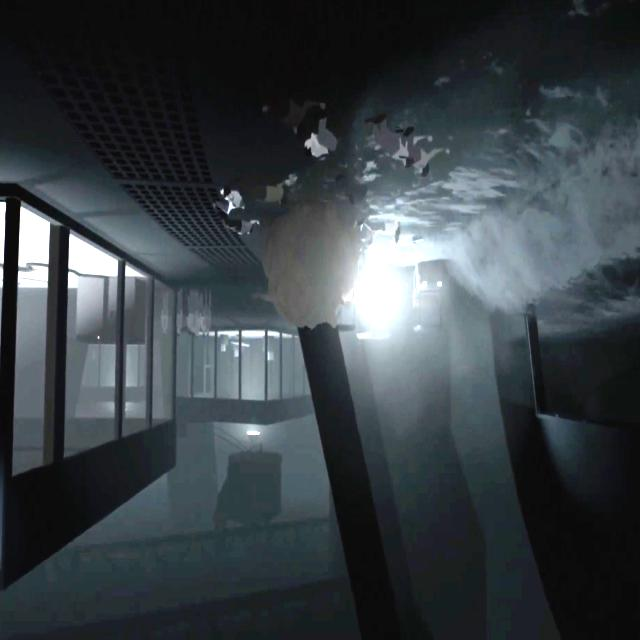blob: (252, 202, 364, 330)
human: (368, 115, 428, 172), (300, 106, 337, 162), (249, 173, 297, 207), (212, 177, 246, 214), (409, 148, 452, 176), (218, 214, 260, 238), (371, 219, 402, 239), (392, 235, 425, 248), (204, 290, 212, 336), (161, 290, 169, 333), (188, 290, 194, 334), (177, 288, 182, 335), (196, 290, 200, 336)
